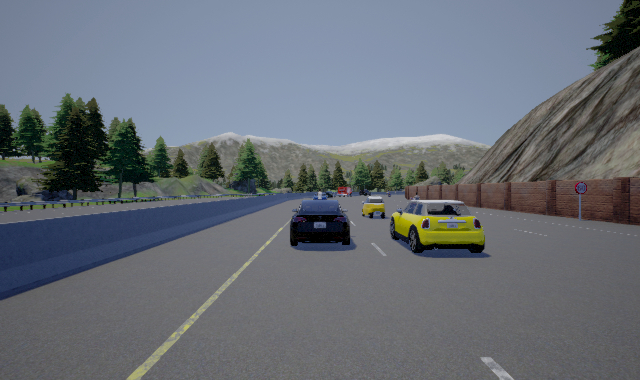traffic_sign: (575, 182, 587, 194)
vehicle: (390, 198, 485, 253), (288, 199, 350, 246), (362, 192, 385, 219)
